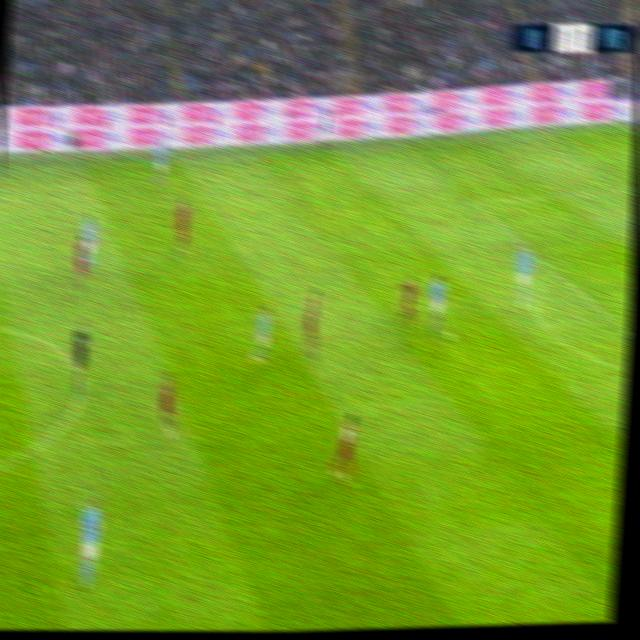bigarea_top_inner: (466, 195, 483, 211)
corner: (610, 119, 629, 134)
top_arc_area_intersection: (548, 265, 565, 282)
